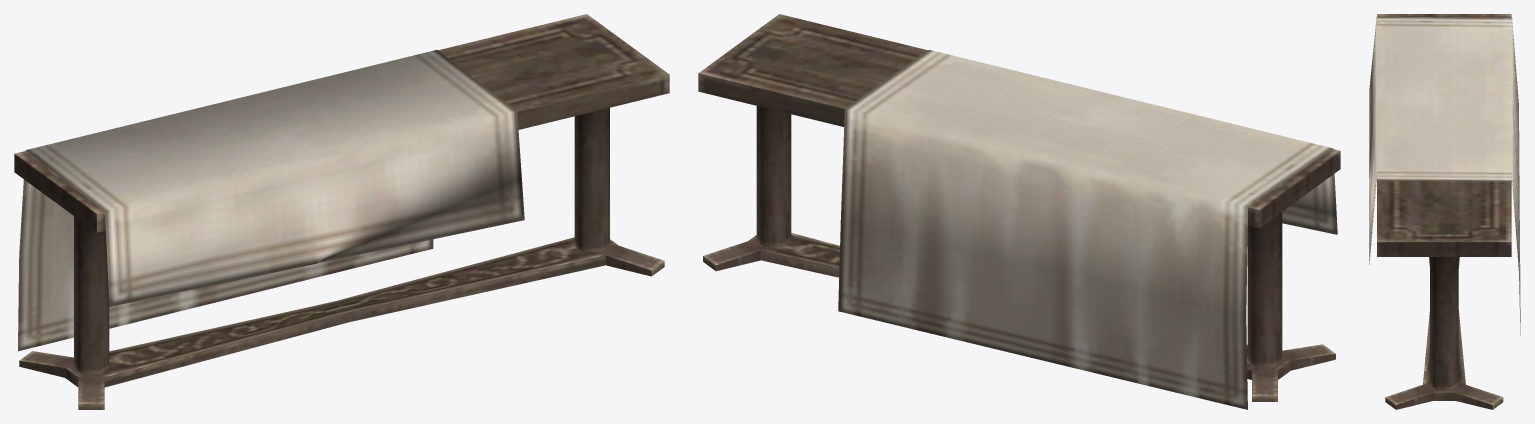
Rendered from OZ_21_ta_table01A.glb.
3 views of the same model, side by side, from view 1: azimuth 30°, elevation 25°; view 2: azimuth 150°, elevation 25°; view 3: azimuth 270°, elevation 25° (orthographic). The views are drawn at different scales.
Visible parts, largest first — view 1: OM_21_ta_table01A; view 2: OM_21_ta_table01A; view 3: OM_21_ta_table01A.
Part boxes in pixels (box(x1,y1,x2,y2)): OM_21_ta_table01A: box(14, 14, 669, 409); OM_21_ta_table01A: box(698, 14, 1340, 409); OM_21_ta_table01A: box(1369, 14, 1520, 409).
Bounding box in the file's own units: 3.07 × 1.02 × 0.8435.
1 material, 1 textured.
